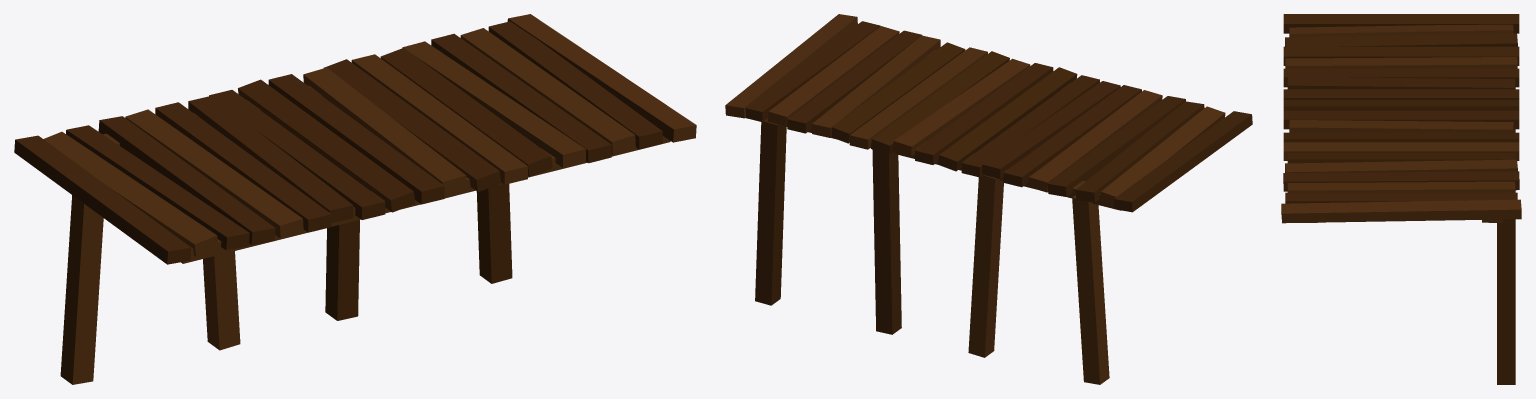
The model's file is obj_Scaffolding_1.fbx.
The picture shows the model from 3 angles, left to right: view 1: azimuth 30°, elevation 25°; view 2: azimuth 150°, elevation 25°; view 3: azimuth 270°, elevation 25°; orthographic projection. The views are drawn at different scales.
Visible parts, largest first — view 1: geo_Scaffolding_1; view 2: geo_Scaffolding_1; view 3: geo_Scaffolding_1.
Boxes of the visible parts, x1,y1,x2,y2 form: geo_Scaffolding_1: [14, 14, 696, 384]; geo_Scaffolding_1: [725, 14, 1252, 384]; geo_Scaffolding_1: [1281, 14, 1521, 384].
Size of the model in its own units: 123 by 62.89 by 54.93.
